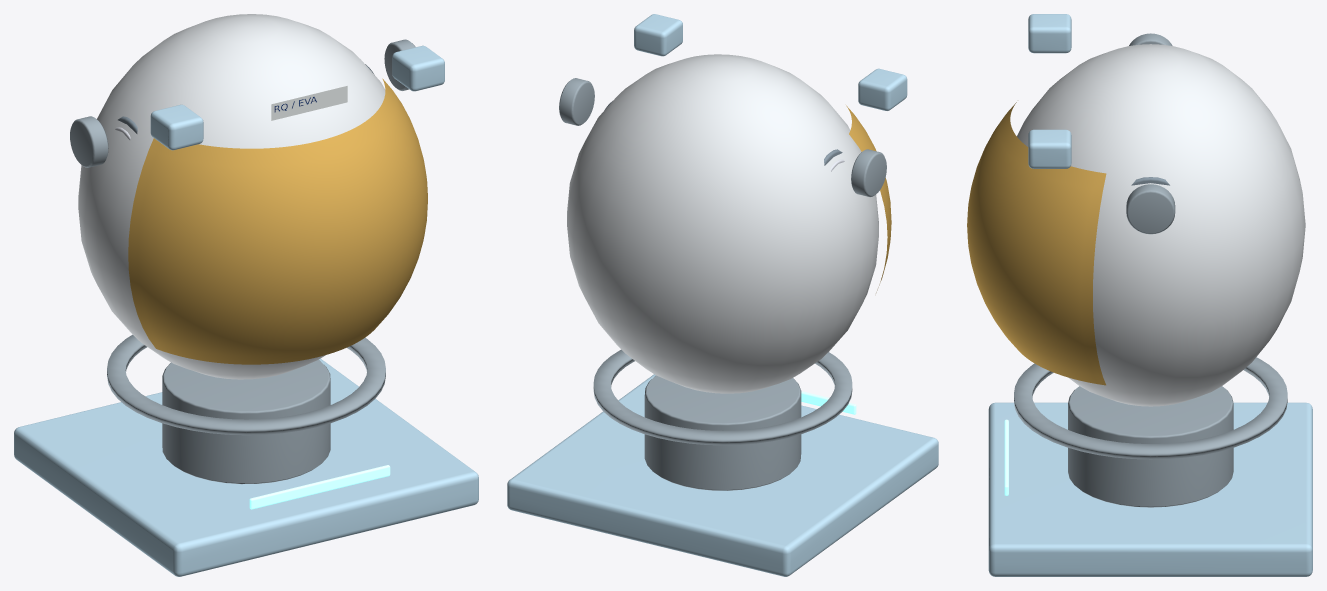
The model's file is space_helmet.glb.
3 renders of one model, left to right at view 1: azimuth 30°, elevation 25°; view 2: azimuth 150°, elevation 25°; view 3: azimuth 270°, elevation 25°, orthographic. The views are drawn at different scales.
Visible parts, largest first — view 1: Gold_Visor_Surface, Helmet_Dock, Helmet_Pressure_Shell, Helmet_Dock_Neck, Helmet_Neck, Helmet_Lamp-1, Helmet_Lamp1, Helmet_Dock_Status, Visor_Pivot-1, Helmet_Identifier, Visor_Pivot1; view 2: Helmet_Pressure_Shell, Helmet_Dock, Helmet_Dock_Neck, Helmet_Neck, Helmet_Lamp-1, Helmet_Lamp1, Visor_Pivot-1, Visor_Pivot1, Gold_Visor_Surface; view 3: Helmet_Pressure_Shell, Helmet_Dock, Gold_Visor_Surface, Helmet_Dock_Neck, Helmet_Neck, Visor_Pivot1, Helmet_Lamp1, Helmet_Lamp-1.
Boxes of the visible parts, x1=… form: Gold_Visor_Surface: x1=128, y1=78, x2=427, y2=364; Helmet_Dock: x1=14, y1=358, x2=478, y2=576; Helmet_Pressure_Shell: x1=78, y1=14, x2=385, y2=379; Helmet_Dock_Neck: x1=162, y1=360, x2=330, y2=484; Helmet_Neck: x1=107, y1=334, x2=385, y2=435; Helmet_Lamp-1: x1=150, y1=104, x2=203, y2=150; Helmet_Lamp1: x1=392, y1=45, x2=444, y2=91; Helmet_Dock_Status: x1=249, y1=465, x2=390, y2=509; Visor_Pivot-1: x1=70, y1=116, x2=108, y2=167; Helmet_Identifier: x1=271, y1=86, x2=347, y2=120; Visor_Pivot1: x1=384, y1=39, x2=415, y2=90; Helmet_Pressure_Shell: x1=567, y1=54, x2=878, y2=393; Helmet_Dock: x1=507, y1=374, x2=938, y2=576; Helmet_Dock_Neck: x1=644, y1=375, x2=801, y2=490; Helmet_Neck: x1=593, y1=349, x2=852, y2=445; Helmet_Lamp-1: x1=858, y1=68, x2=907, y2=110; Helmet_Lamp1: x1=634, y1=14, x2=682, y2=56; Visor_Pivot-1: x1=851, y1=149, x2=886, y2=197; Visor_Pivot1: x1=559, y1=78, x2=594, y2=125; Gold_Visor_Surface: x1=846, y1=105, x2=891, y2=292; Helmet_Pressure_Shell: x1=1017, y1=44, x2=1305, y2=406; Helmet_Dock: x1=988, y1=402, x2=1312, y2=576; Gold_Visor_Surface: x1=967, y1=102, x2=1106, y2=385; Helmet_Dock_Neck: x1=1068, y1=386, x2=1233, y2=507; Helmet_Neck: x1=1014, y1=357, x2=1287, y2=459; Visor_Pivot1: x1=1126, y1=184, x2=1175, y2=234; Helmet_Lamp1: x1=1028, y1=129, x2=1071, y2=168; Helmet_Lamp-1: x1=1028, y1=14, x2=1071, y2=53.
Size of the model in its own units: 0.52 by 0.685 by 0.48.
Materials: 8 (1 with a texture image).
